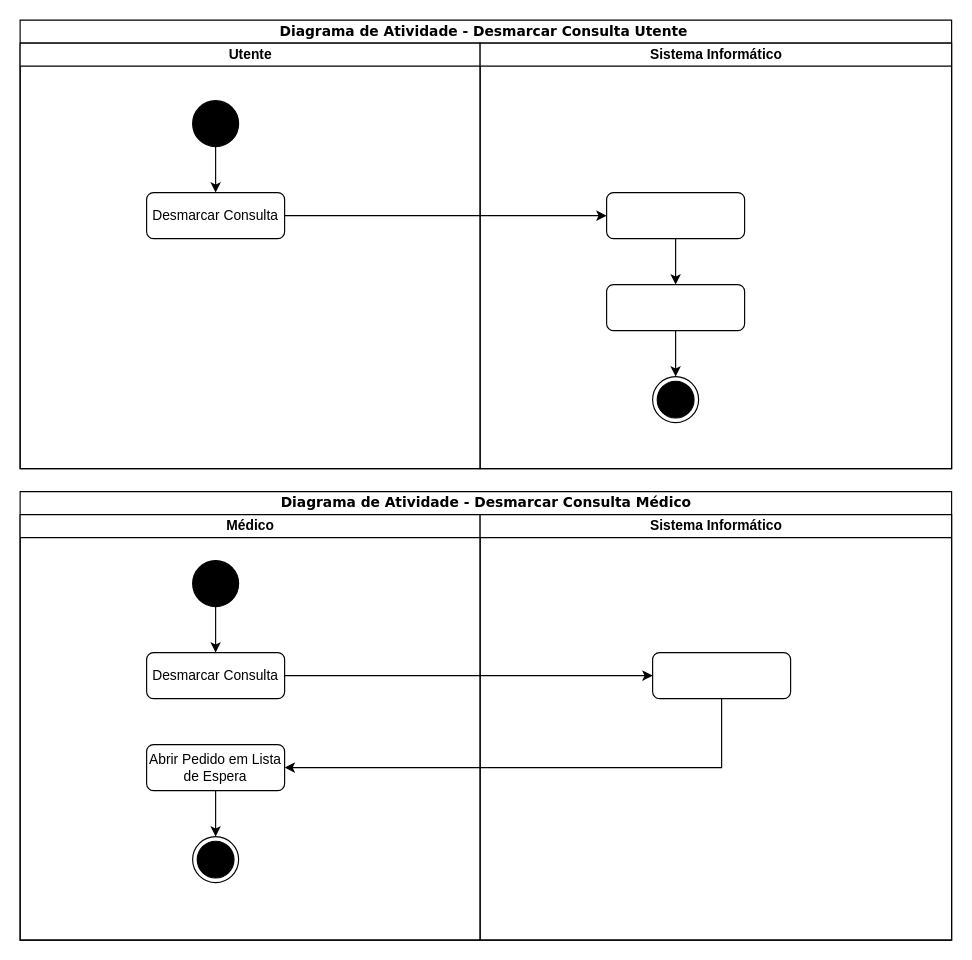
Some shapes in this 972 by 960 pixel diagram are drawn without their labels. The shapes that lost their labels are listed below. From the top down, each one's centre as x and y in pixels, then its label:
At pixel 675 215: "Abrir Vaga no Calendário".
At pixel 675 307: "Registar desmarcação por parte do Utente".
At pixel 721 675: "Registar Impossibilidade do Médico".
